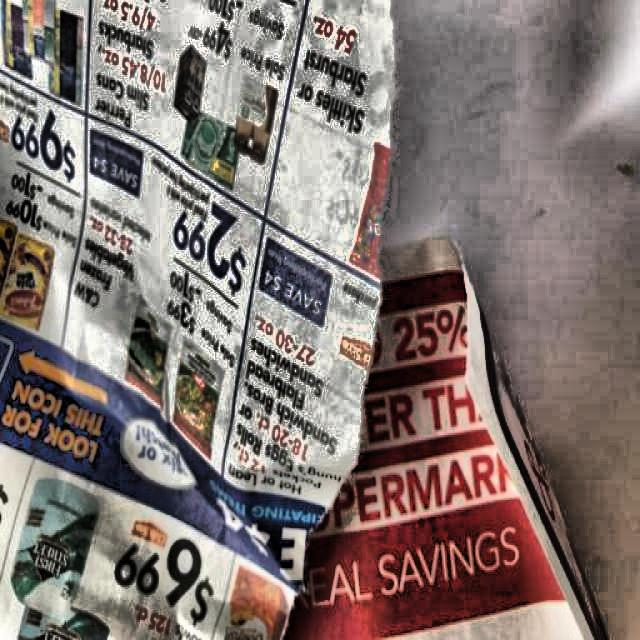Paper: (0, 0, 394, 638), (278, 235, 607, 638)
